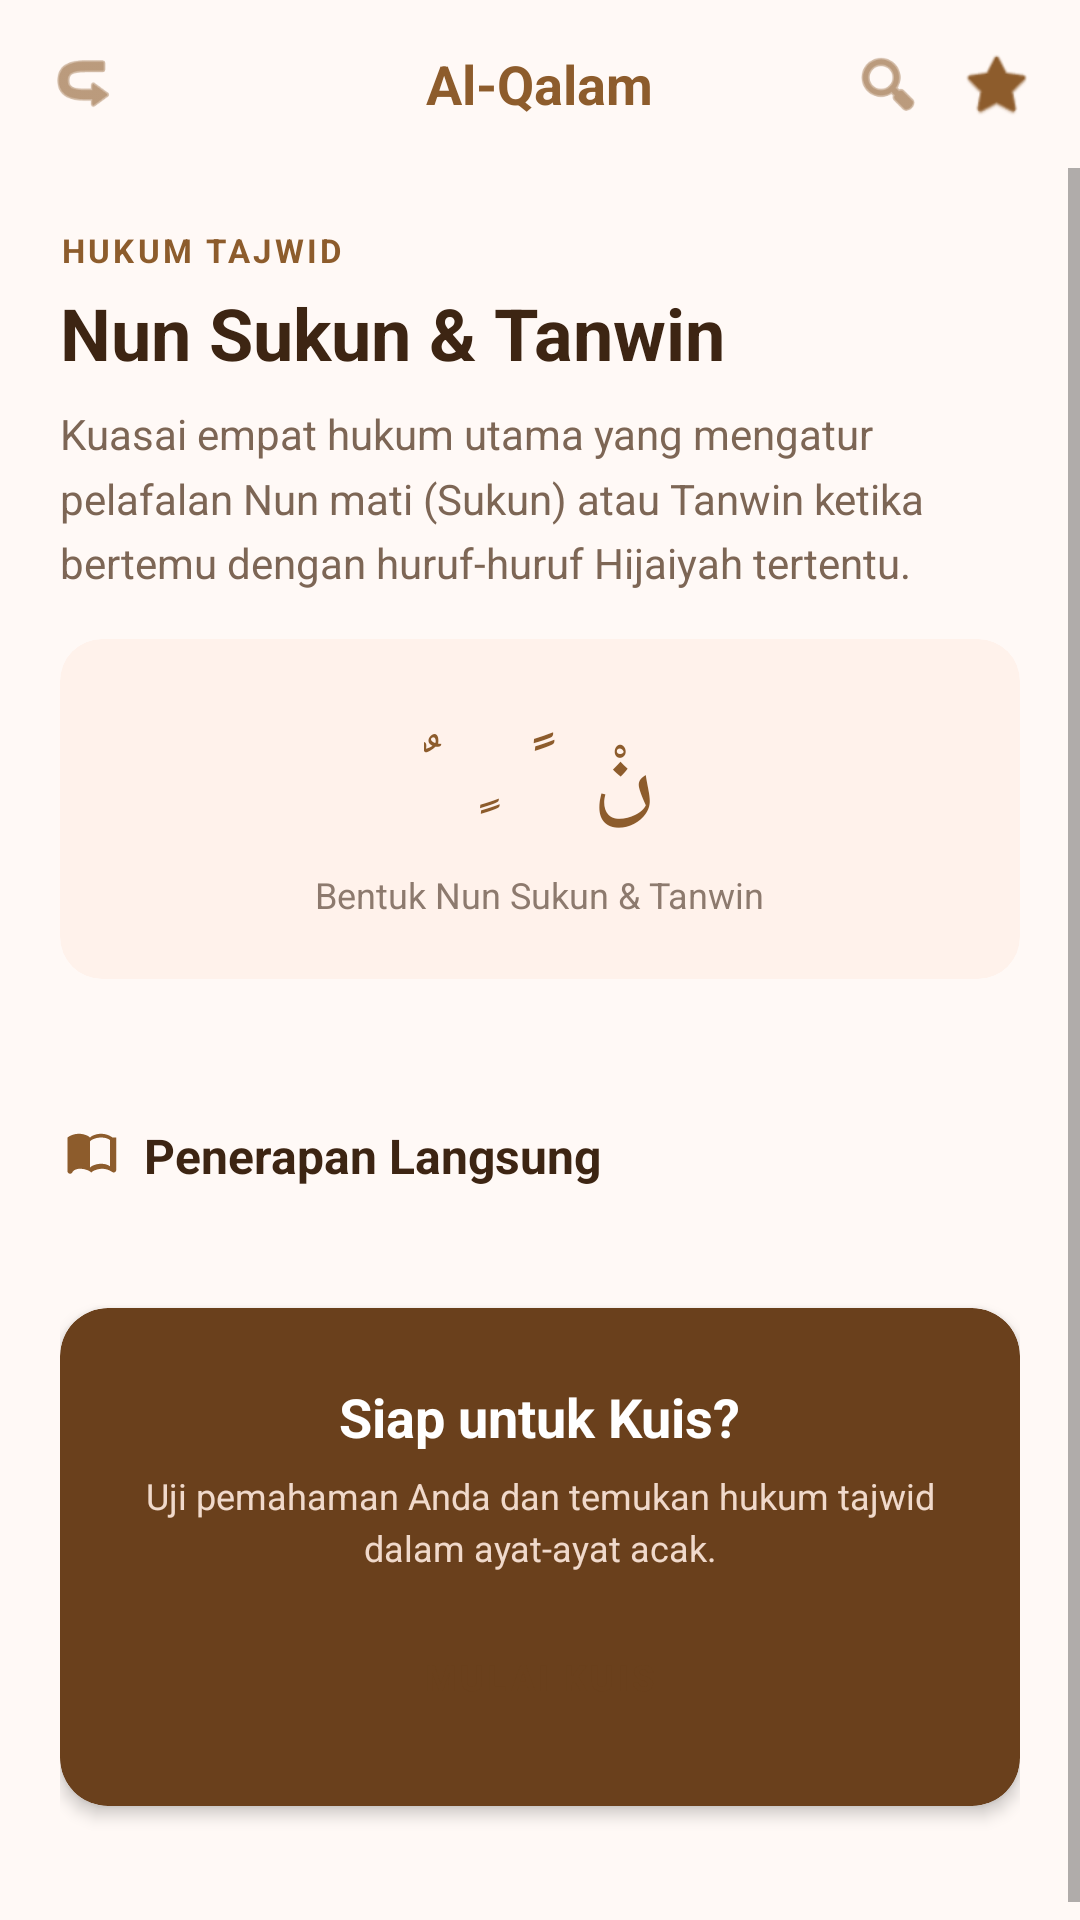

Icons on this 1080×1920 Android screen, each with its box as (x1, y1, x2, y2):
quran book: (67, 1133, 117, 1174)
search: (861, 58, 915, 111)
